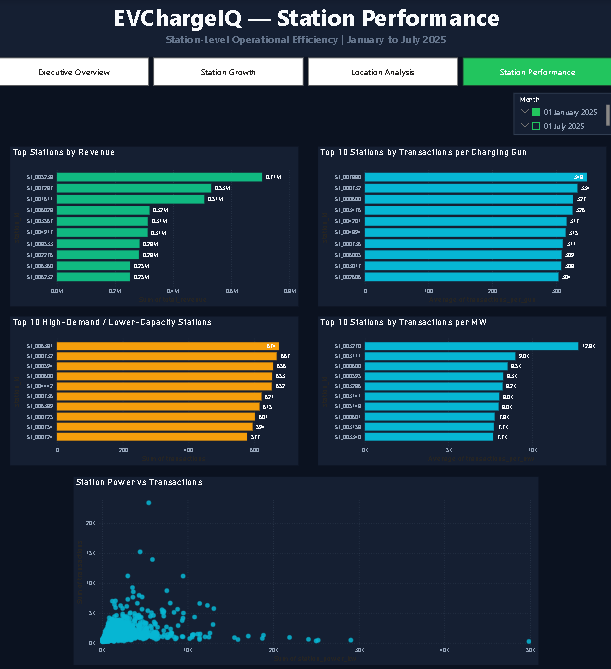

This screenshot's page, from the dashboard's own definition file:
{"tool":"powerbi","page":{"name":"Station Performance","canvas":[1280,1400],"ordinal":3},"visuals":[{"type":"clusteredBarChart","title":"Top Stations by Revenue","fields":{"Y":["Sum(station_performance.total_revenue)"],"Category":["station_performance.station_id"]},"box":[22.5,307.5,600,332.5],"z":0},{"type":"clusteredBarChart","title":"Top 10 High-Demand / Lower-Capacity Stations","fields":{"Y":["Sum(station_performance.transactions)"],"Category":["station_performance.station_id"]},"box":[22,662,600,310],"z":1000},{"type":"clusteredBarChart","title":"Top 10 Stations by Transactions per Charging Gun","fields":{"Y":["Avg(station_performance.transactions_per_gun)"],"Category":["station_performance.station_id"]},"box":[665,307.5,600,332.5],"z":2000},{"type":"clusteredBarChart","title":"Top 10 Stations by Transactions per MW","fields":{"Y":["Avg(station_performance.transactions_per_mw)"],"Category":["station_performance.station_id"]},"box":[664,662,600,310],"z":3000},{"type":"scatterChart","title":"Station Power vs Transactions","fields":{"X":["Sum(station_performance.station_power_kw)"],"Category":["station_performance.transactions","station_performance.station_id"],"Y":["Sum(station_performance.transactions)"]},"box":[156,994,968,392],"z":4000},{"type":"slicer","fields":{"Values":["station_performance.month","station_performance.month.Variation.Date Hierarchy.Month"]},"box":[1072.5,195,208,88],"z":5000},{"type":"pageNavigator","box":[0,120.9,1279.1,58],"z":5001},{"type":"textbox","box":[0,0,1280,120],"z":5002}]}

Visuals, with their boxes in screenshot pixels (x1, y1, x2, y2), scaled from the page's 1280x1400 canvas onto the 611x669 screenshot:
"Top Stations by Revenue" clusteredBarChart: l=11, t=147, r=297, b=306
"Top 10 High-Demand / Lower-Capacity Stations" clusteredBarChart: l=11, t=316, r=297, b=464
"Top 10 Stations by Transactions per Charging Gun" clusteredBarChart: l=317, t=147, r=604, b=306
"Top 10 Stations by Transactions per MW" clusteredBarChart: l=317, t=316, r=603, b=464
"Station Power vs Transactions" scatterChart: l=74, t=475, r=537, b=662
slicer - station_performance.month x station_performance.month.Variation.Date Hierarchy.Month: l=512, t=93, r=610, b=135
pageNavigator: l=0, t=58, r=610, b=85
textbox: l=0, t=0, r=610, b=57
